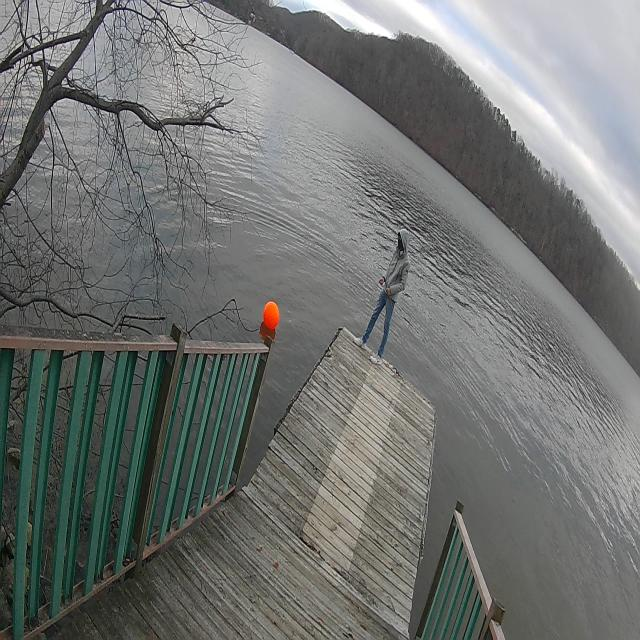Buoy: (260, 289, 284, 341)
